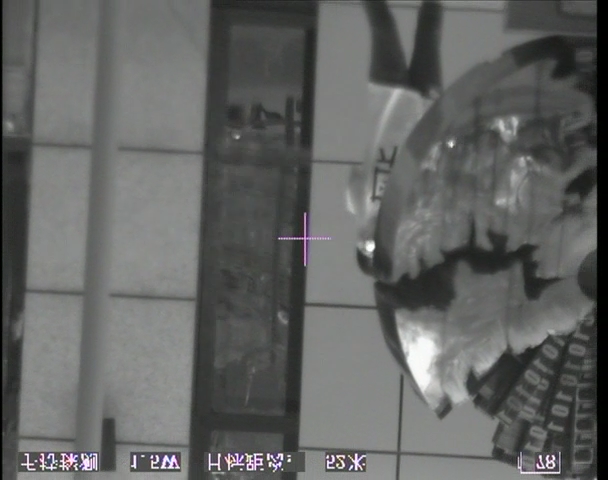my: (363, 238, 376, 252)
